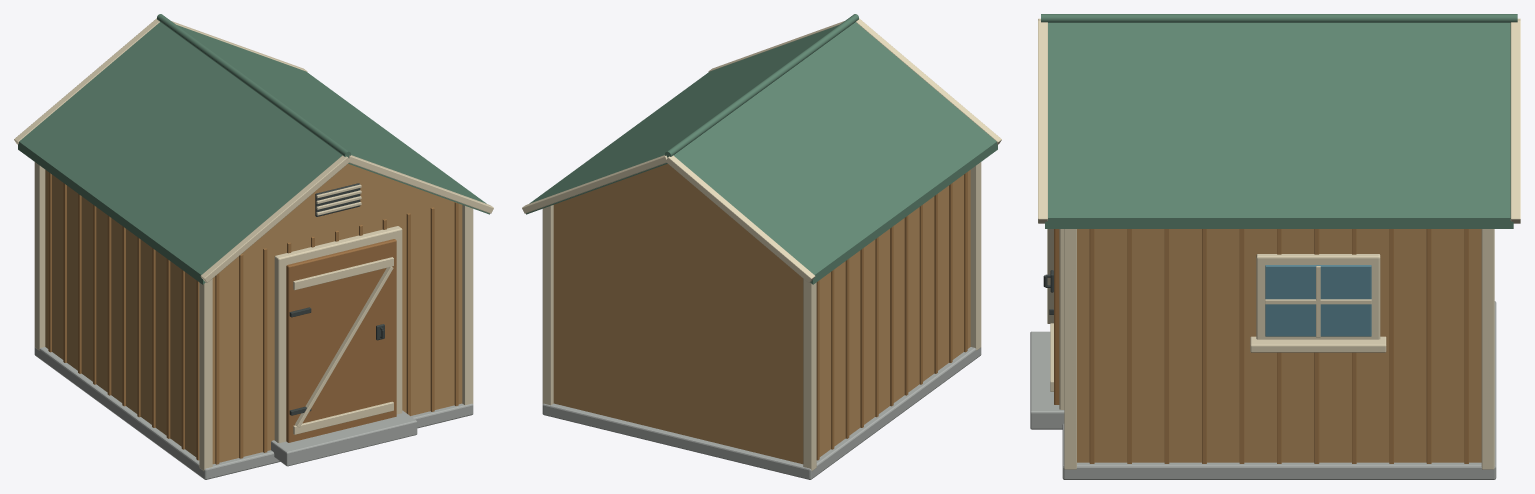
Rendered from shed_wooden_gable.glb.
3 renders of one model, left to right at view 1: azimuth 30°, elevation 25°; view 2: azimuth 150°, elevation 25°; view 3: azimuth 270°, elevation 25°, orthographic. The views are drawn at different scales.
Visible parts, largest first — view 1: Gable shed walls, Left gable roof, Single garden shed door, Right gable roof, Front door frame, Stone foundation, Entrance threshold, Shed corner trim, Shed corner trim.002, Shed corner trim.001, Gable fascia, Roof ridge cap (+23 smaller); view 2: Gable shed walls, Left gable roof, Right gable roof, Stone foundation, Shed corner trim.001, Shed corner trim.003, Shed corner trim, Gable fascia.002, Roof ridge cap, Gable fascia.003, Gable fascia, Side vertical siding batten.004 (+10 smaller); view 3: Right gable roof, Gable shed walls, Stone foundation, Garden side window glass, Roof ridge cap, Shed corner trim.003, Garden side window trim, Shed corner trim.002, Entrance threshold, Gable fascia.003, Gable fascia.001, Garden side window sill (+15 smaller).
Boxes of the visible parts, x1,y1,x2,y2 form: Gable shed walls: [45, 164, 462, 464]; Left gable roof: [18, 22, 342, 284]; Single garden shed door: [286, 239, 396, 442]; Right gable roof: [177, 25, 489, 214]; Front door frame: [274, 226, 402, 443]; Stone foundation: [34, 347, 473, 479]; Entrance threshold: [271, 410, 417, 466]; Shed corner trim: [199, 279, 212, 470]; Shed corner trim.002: [462, 205, 473, 405]; Shed corner trim.001: [34, 162, 45, 350]; Gable fascia: [200, 155, 349, 282]; Roof ridge cap: [157, 14, 350, 157]; Gable shed walls: [553, 164, 970, 464]; Left gable roof: [673, 22, 997, 284]; Right gable roof: [526, 25, 838, 214]; Stone foundation: [542, 347, 981, 479]; Shed corner trim.001: [803, 279, 816, 470]; Shed corner trim.003: [542, 205, 553, 405]; Shed corner trim: [970, 162, 981, 350]; Gable fascia.002: [666, 155, 815, 282]; Roof ridge cap: [665, 14, 858, 157]; Gable fascia.003: [522, 155, 667, 213]; Gable fascia: [856, 18, 1001, 144]; Side vertical siding batten.004: [904, 215, 908, 395]; Right gable roof: [1045, 22, 1513, 228]; Gable shed walls: [1077, 229, 1481, 462]; Stone foundation: [1062, 301, 1496, 479]; Garden side window glass: [1265, 265, 1371, 336]; Roof ridge cap: [1041, 14, 1517, 22]; Shed corner trim.003: [1481, 229, 1494, 469]; Garden side window trim: [1256, 254, 1380, 339]; Shed corner trim.002: [1064, 229, 1076, 469]; Entrance threshold: [1030, 331, 1064, 429]; Gable fascia.003: [1510, 20, 1520, 223]; Gable fascia.001: [1038, 20, 1047, 223]; Garden side window sill: [1250, 336, 1386, 352].
Size of the model in its own units: 3.15 by 3.14 by 3.64.
